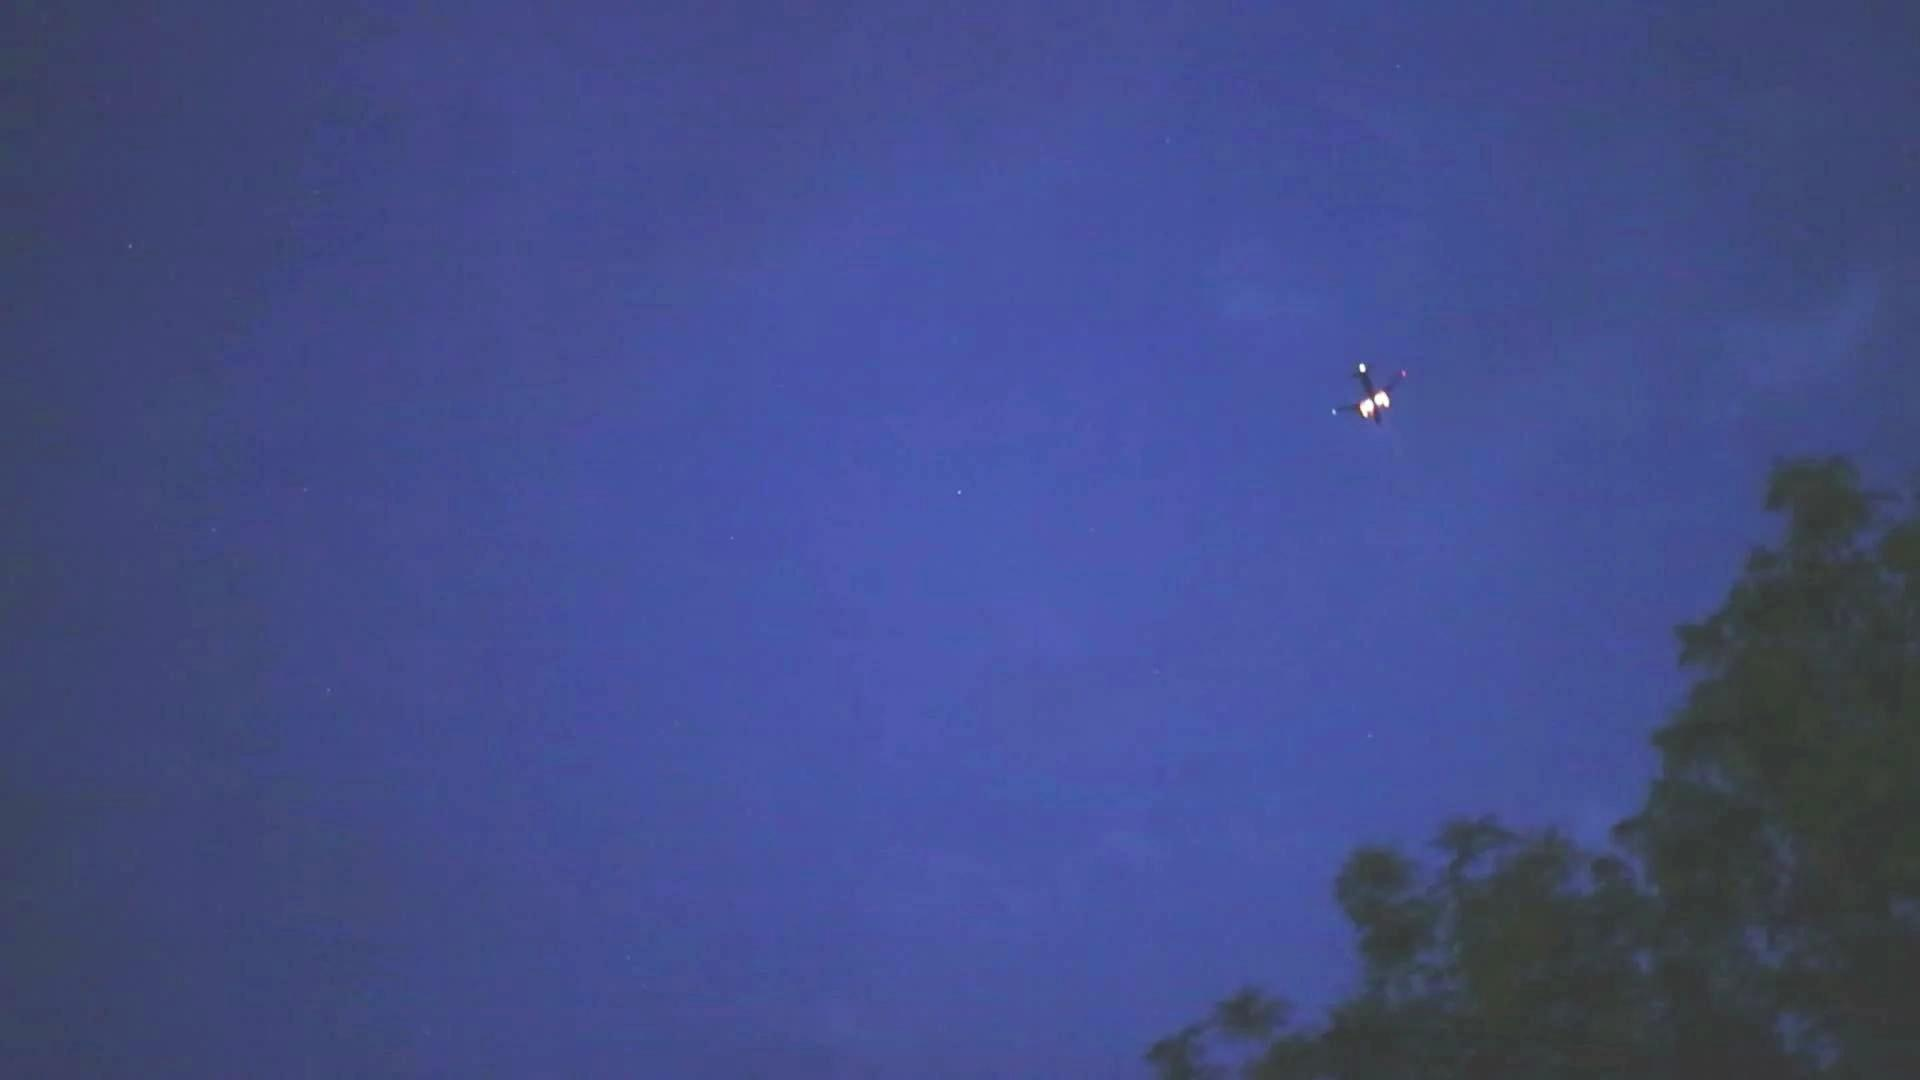Plane: (1317, 345, 1420, 439)
